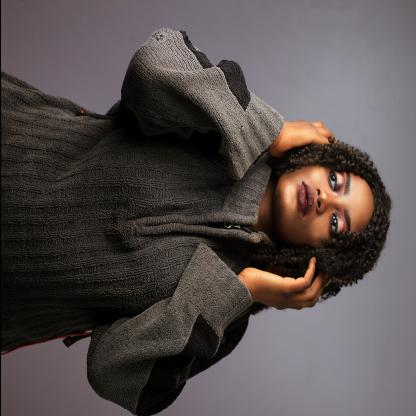Eye: (327, 210, 343, 240), (328, 168, 342, 196)
Mouth: (294, 178, 318, 221)
Nose: (314, 186, 336, 214)
